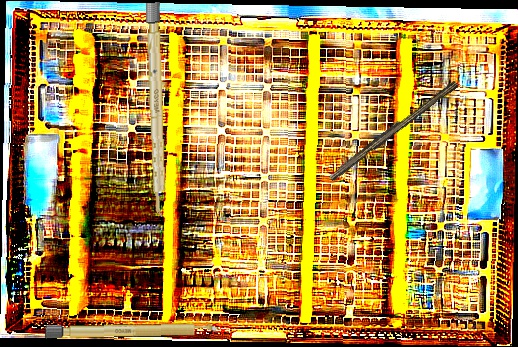Scalpel Handle: (327, 76, 459, 184), (145, 2, 168, 218), (43, 322, 222, 340)
